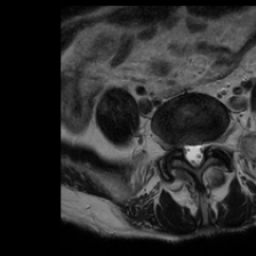CCS_normal: (189, 136, 197, 173)
LFS_stenosis: (204, 133, 211, 154)
LLS_normal: (197, 139, 205, 169)
RFS_severe_stenosis: (172, 134, 183, 158)
RLS_normal: (182, 137, 189, 167)
